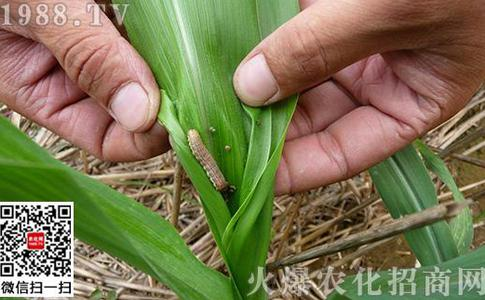pest: (172, 119, 239, 196)
